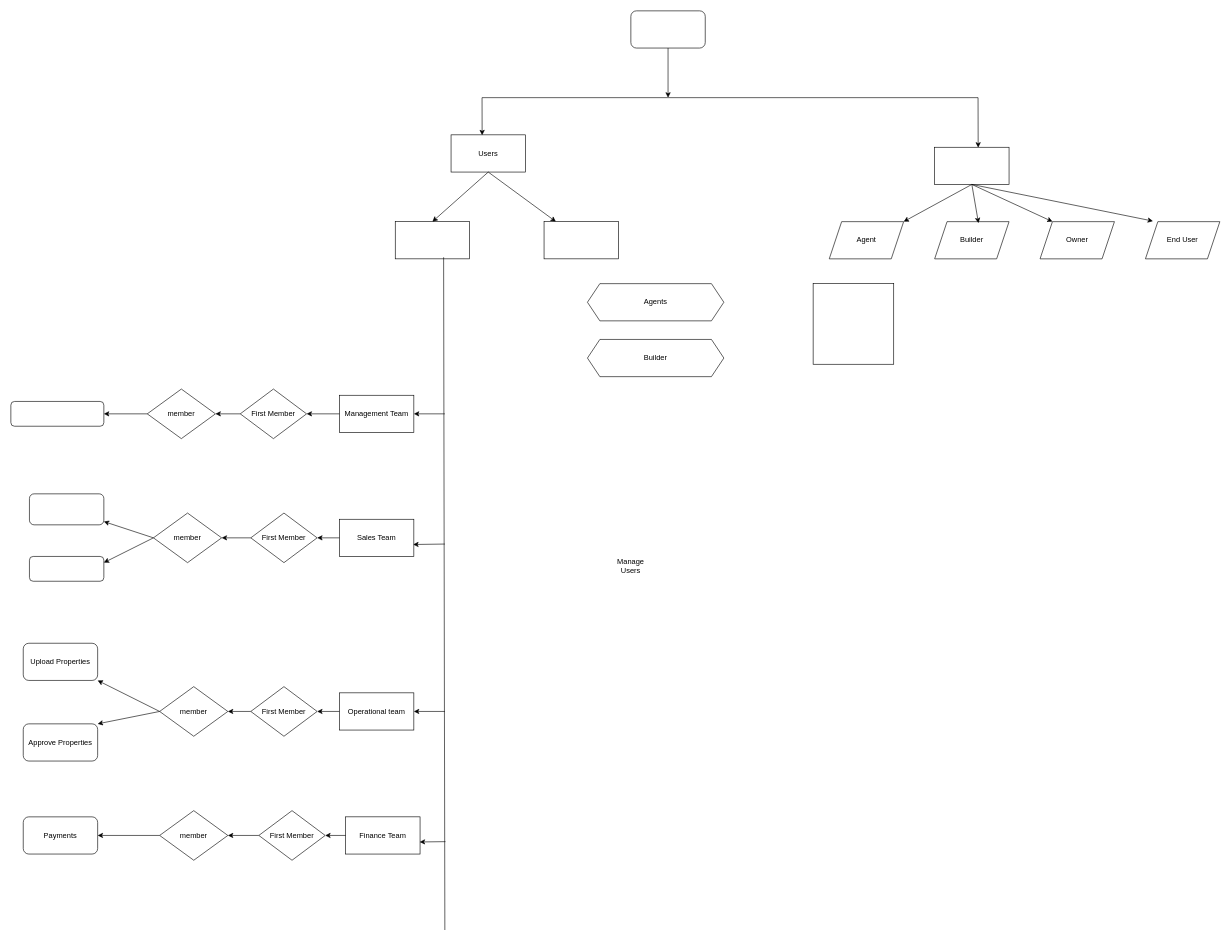
Image size: 1231x942. Some labels were removed from this diagram. The box of each missing label's shape, as (x1, y1, x2, y2) in pixels:
Agents Name No. of properties Leads: (813, 283, 894, 364)
All can Read: (10, 401, 104, 426)
Customer care Executive: (29, 493, 104, 525)
External Users: (543, 221, 618, 259)
Internal Users: (395, 221, 470, 259)
Reports: (934, 147, 1009, 184)
Super Admin: (630, 10, 705, 48)
Take care about Leads: (29, 556, 104, 581)
